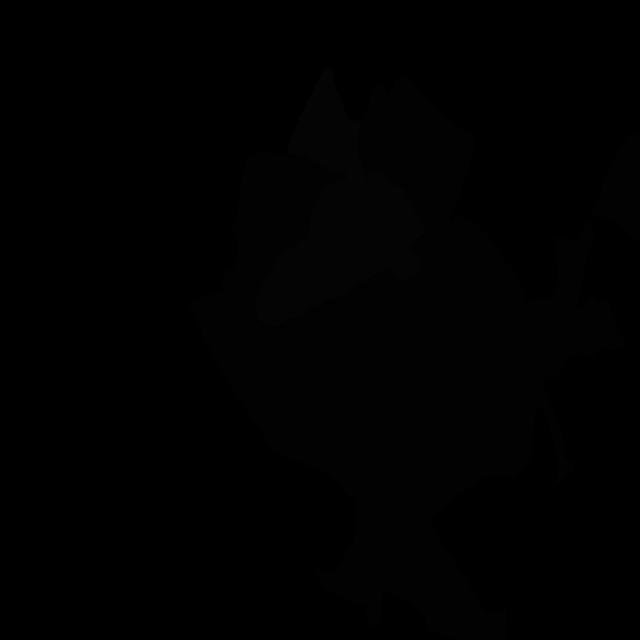cardboard: (314, 215, 575, 640), (188, 272, 368, 451), (357, 76, 474, 260), (222, 152, 347, 293), (526, 220, 628, 380), (274, 407, 356, 498), (590, 133, 640, 244)
soft_plastic: (255, 170, 426, 327), (286, 67, 367, 184)
